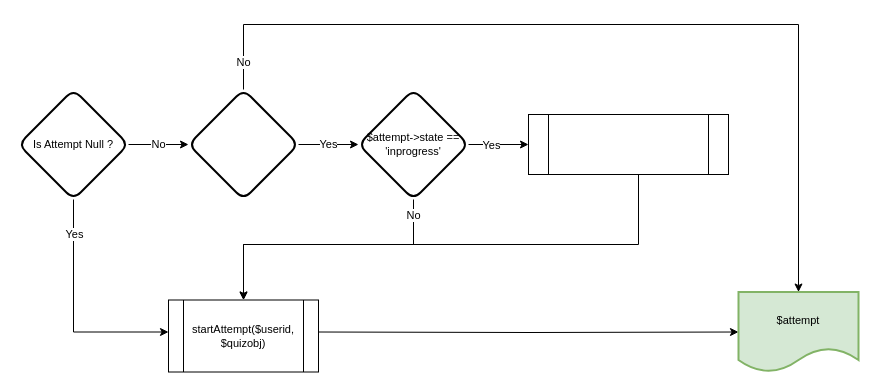
This 876x390 diagram has some shape labels left out. The centre of each missing label's shape, as x and y in pixels:
$forcenew == true: the point at 243,144
abandonAttempt($attempt): the point at 628,144
